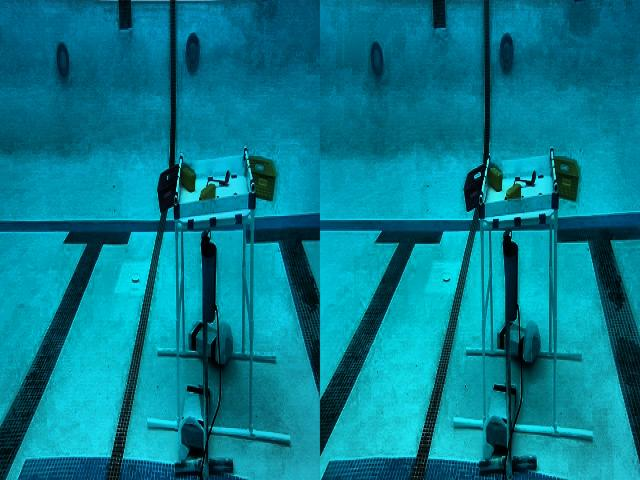octagon_table: (452, 141, 590, 480), (152, 143, 282, 480)
